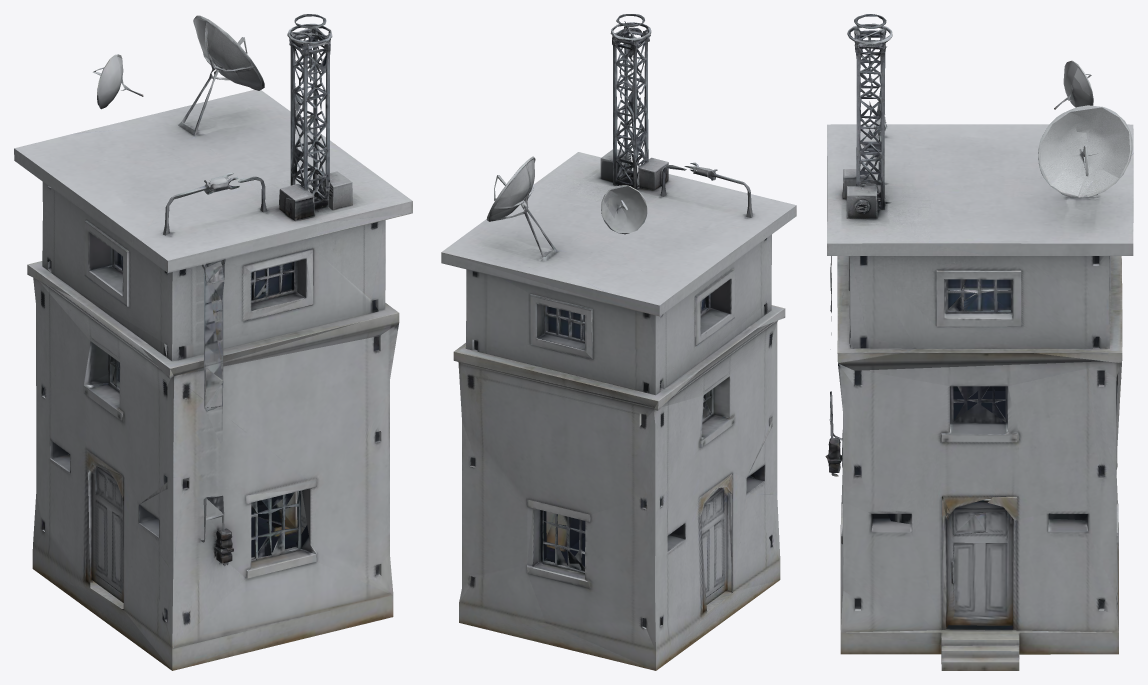
File: relay.glb
3 views of the same model, side by side, from view 1: azimuth 30°, elevation 25°; view 2: azimuth 150°, elevation 25°; view 3: azimuth 270°, elevation 25° (orthographic). The views are drawn at different scales.
Parts seen in each view (by area): view 1: wall, roof; view 2: wall, roof; view 3: wall, roof.
Boxes of the visible parts, box(x1,y1,x2,y2) form: wall: box(14, 14, 412, 670); roof: box(14, 14, 412, 311); wall: box(441, 14, 796, 670); roof: box(441, 14, 796, 350); wall: box(825, 14, 1133, 670); roof: box(827, 14, 1133, 319).
Size of the model in its own units: 4.63 by 10 by 4.65.
1 material, 1 textured.
